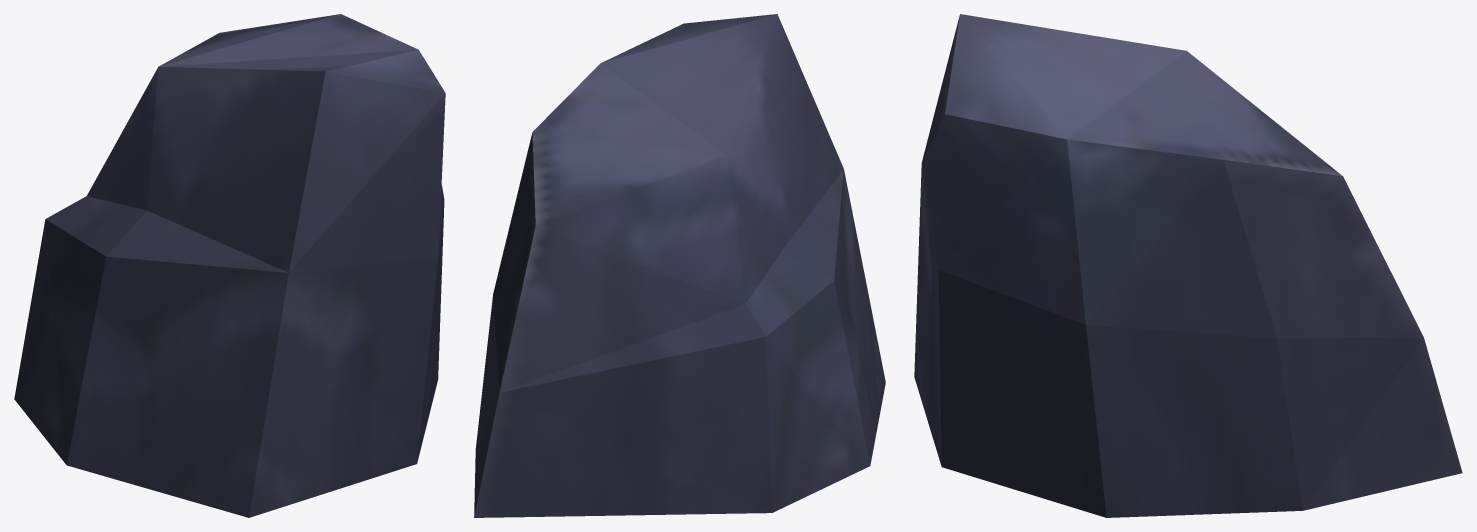
The model's file is Area10_24.fbx.
3 renders of one model, left to right at view 1: azimuth 30°, elevation 25°; view 2: azimuth 150°, elevation 25°; view 3: azimuth 270°, elevation 25°, orthographic. The views are drawn at different scales.
Parts seen in each view (by area): view 1: Area10_24; view 2: Area10_24; view 3: Area10_24.
Part boxes in pixels (box(x1,y1,x2,y2)): Area10_24: box(14, 14, 445, 517); Area10_24: box(474, 14, 885, 517); Area10_24: box(914, 14, 1462, 517).
Bounding box in the file's own units: 230 × 244 × 294.
